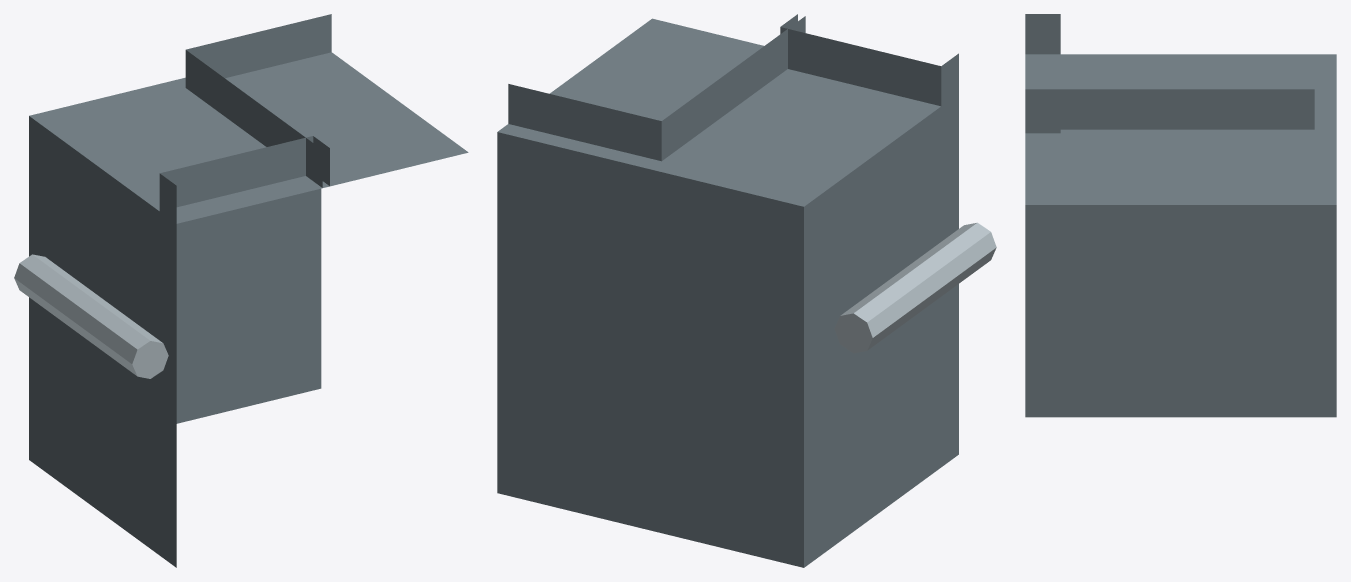
File: cell_46.obj
3 renders of one model, left to right at view 1: azimuth 30°, elevation 25°; view 2: azimuth 150°, elevation 25°; view 3: azimuth 270°, elevation 25°, orthographic. The views are drawn at different scales.
Bounding box in the file's own units: 0.91 × 1 × 0.7.
